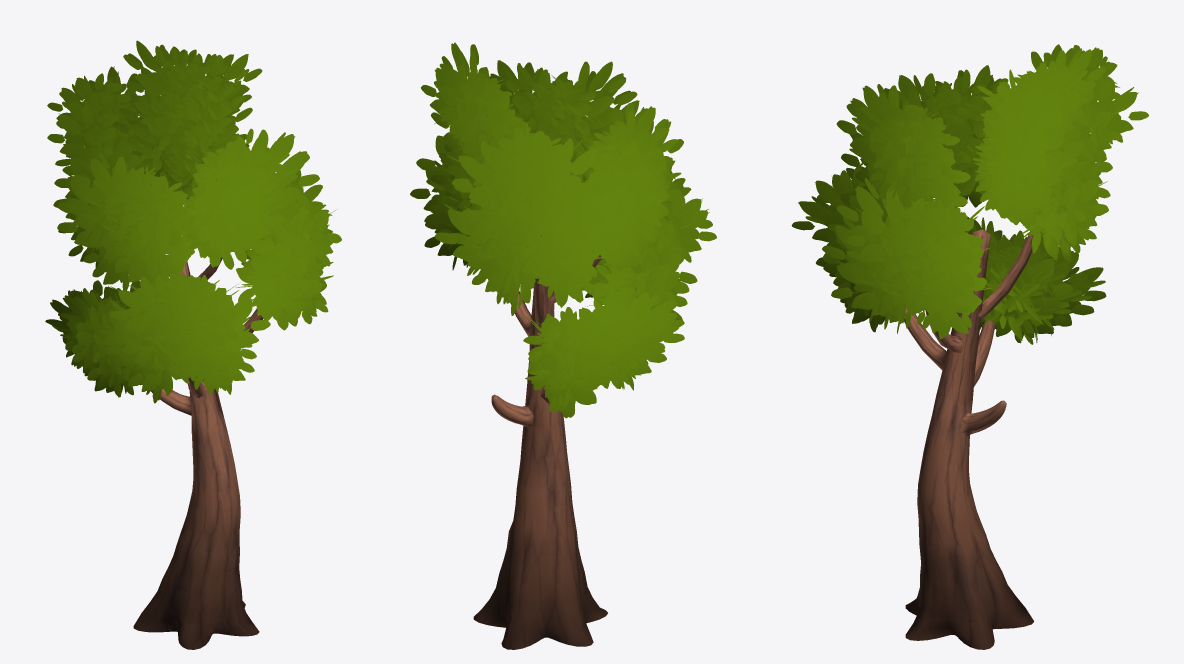
Rendered from tree_5.glb.
3 views of the same model, side by side, from view 1: azimuth 30°, elevation 25°; view 2: azimuth 150°, elevation 25°; view 3: azimuth 270°, elevation 25° (orthographic). The views are drawn at different scales.
Parts seen in each view (by area): view 1: CommonTree_5; view 2: CommonTree_5; view 3: CommonTree_5.
Part boxes in pixels (<box>): CommonTree_5: <box>45,40,341,649</box>; CommonTree_5: <box>410,42,716,649</box>; CommonTree_5: <box>791,44,1148,649</box>.
Size of the model in its own units: 3.67 by 7.01 by 4.22.
Materials: 2 (2 with a texture image).
